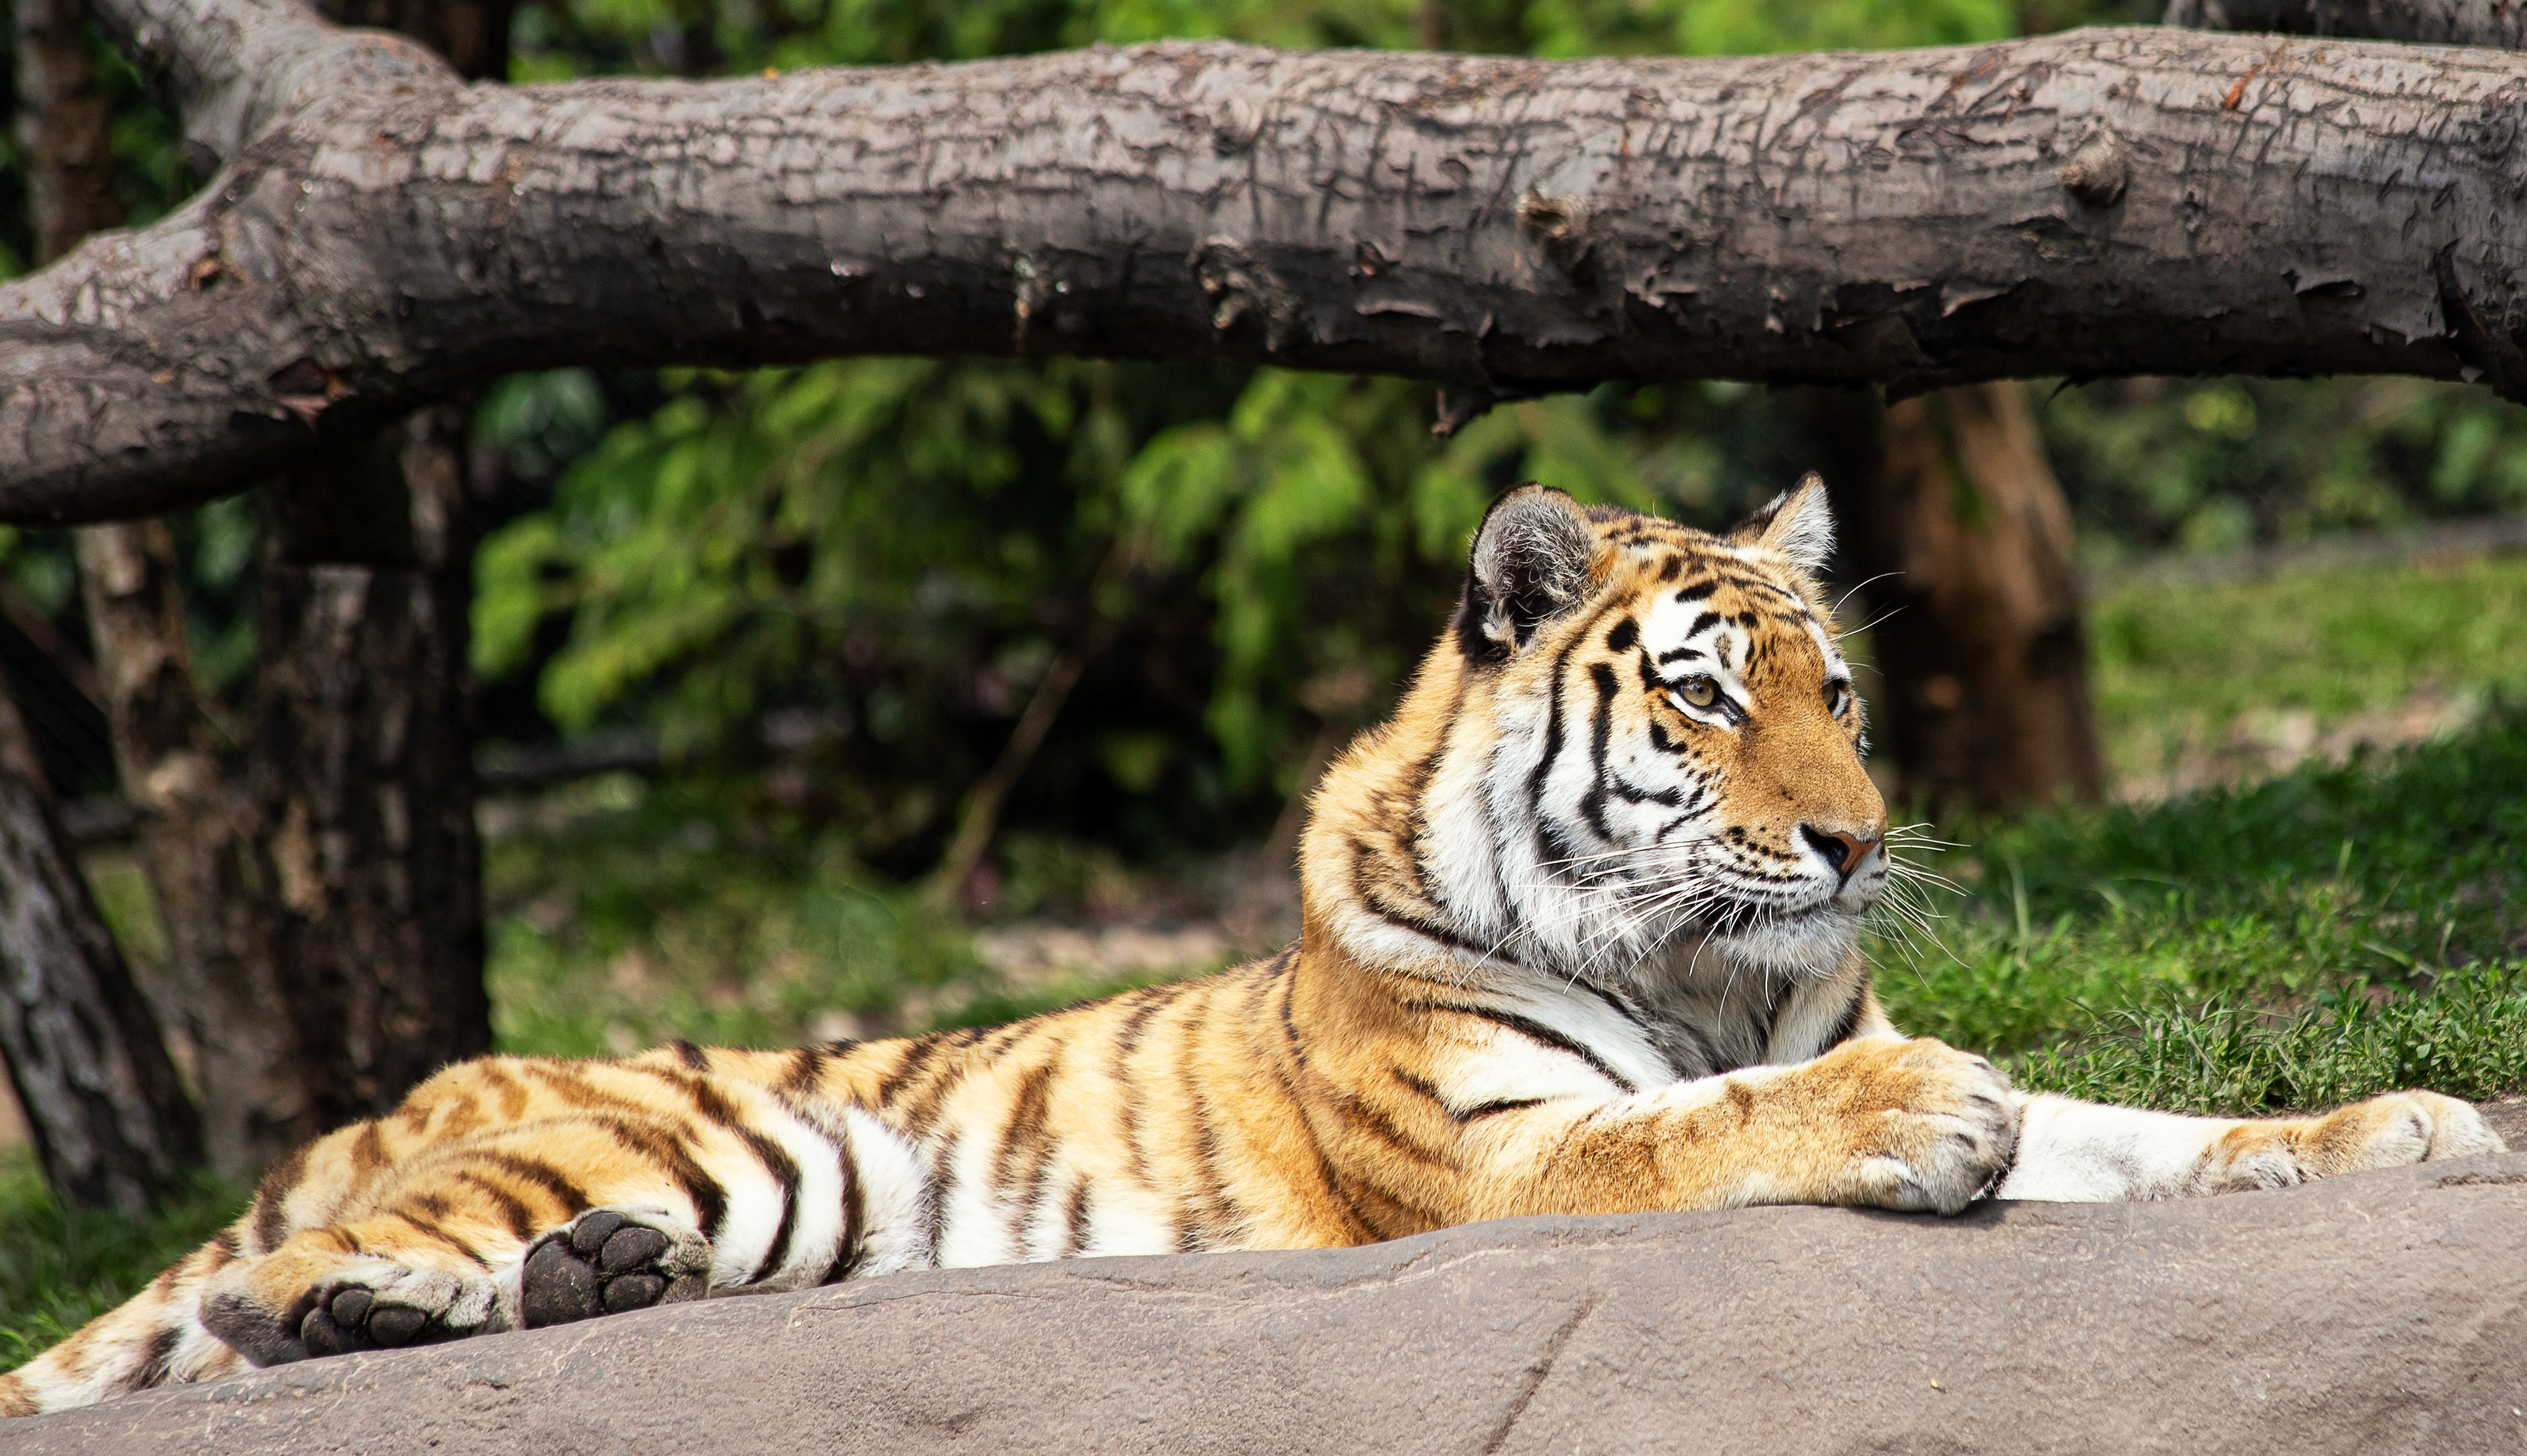tiger: (1126, 474, 2409, 1256)
